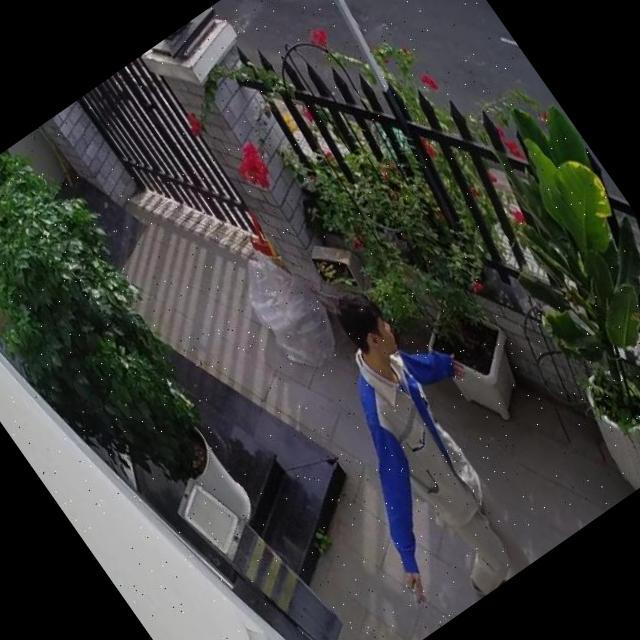person: (244, 254, 578, 628)
